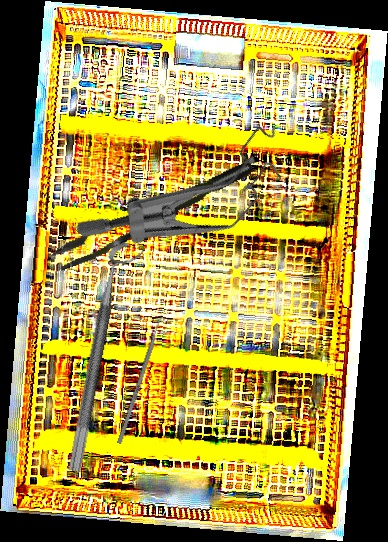Fixation Ring: (66, 239, 146, 477)
Pusher: (117, 306, 166, 445)
Speculum: (73, 72, 304, 310)
Tissue Forceps: (44, 161, 264, 272)
